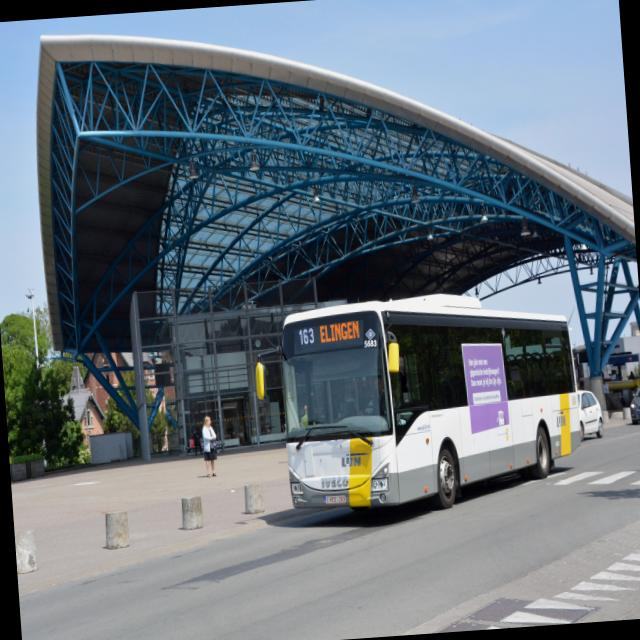bus-number: (298, 326, 315, 346)
